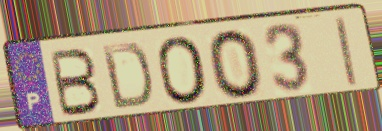3: (265, 21, 311, 97)
B: (48, 46, 104, 119)
D: (99, 41, 155, 112)
I: (332, 14, 361, 90)
O: (205, 27, 266, 102), (154, 34, 211, 107)
